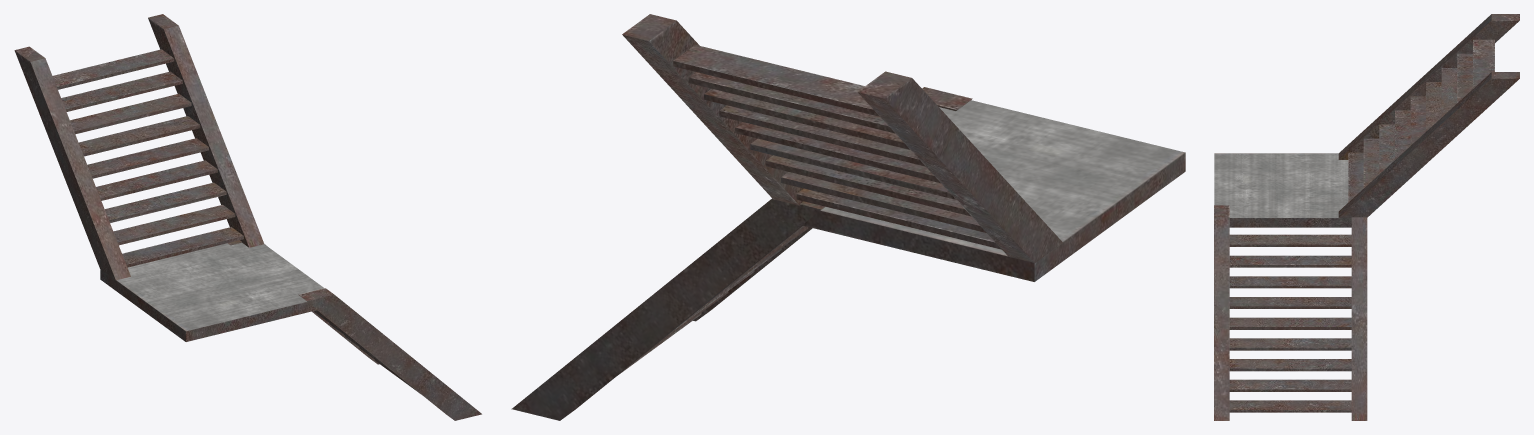
File: armored_stairs_l_shape_textured.glb
3 views of the same model, side by side, from view 1: azimuth 30°, elevation 25°; view 2: azimuth 150°, elevation 25°; view 3: azimuth 270°, elevation 25° (orthographic). The views are drawn at different scales.
Visible parts, largest first — view 1: Cube.001; view 2: Cube.001; view 3: Cube.001.
Part boxes in pixels (bbox=[...]): Cube.001: bbox=[14, 14, 481, 420]; Cube.001: bbox=[511, 14, 1185, 420]; Cube.001: bbox=[1214, 14, 1519, 420].
Bounding box in the file's own units: 2 × 2.01 × 2.
1 material, 1 textured.
